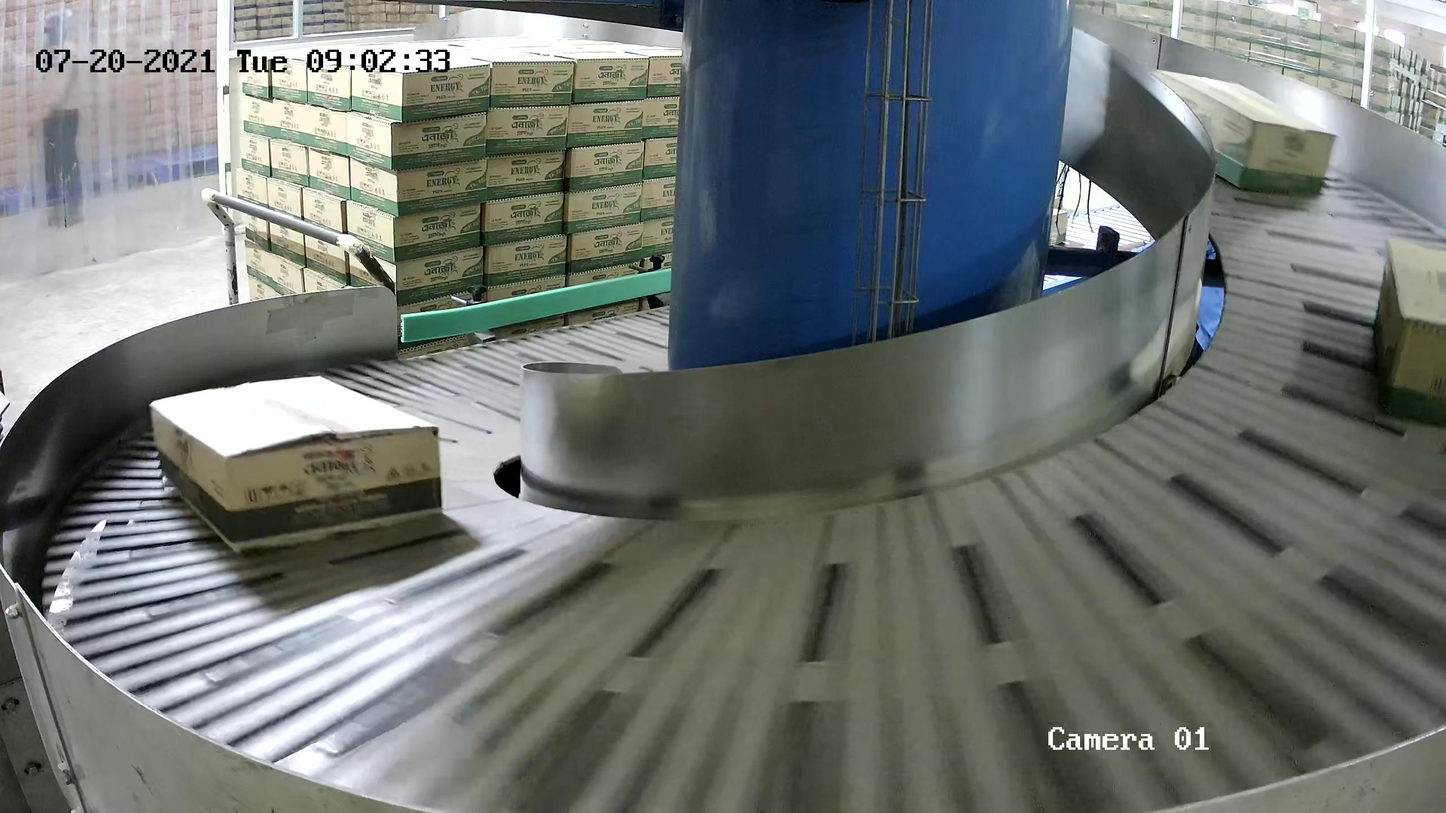Box: (150, 372, 450, 558), (1138, 64, 1343, 199), (1366, 237, 1446, 438)
